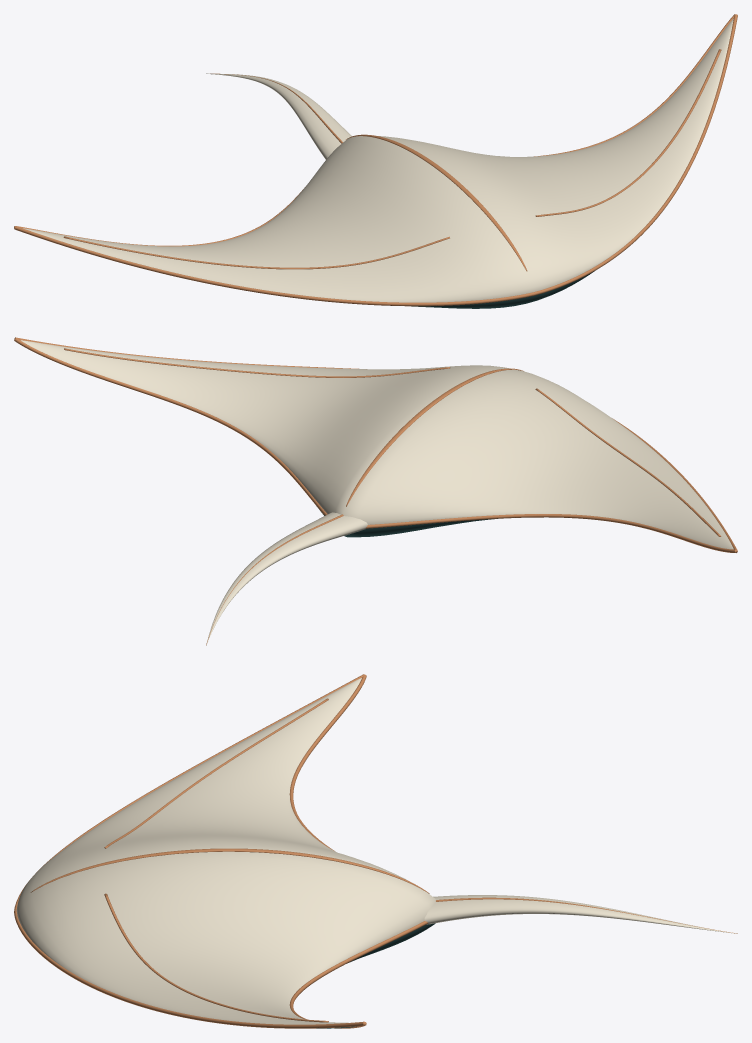
Rendered from nacre-glider.glb.
3 views of the same model, one above another, from view 1: azimuth 30°, elevation 25°; view 2: azimuth 150°, elevation 25°; view 3: azimuth 270°, elevation 25° (orthographic). The views are drawn at different scales.
Parts seen in each view (by area): view 1: A | continuous porcelain wing, B | leading copper seam, E | tapered ceramic tail, B | trailing copper seam, C | swept copper inlay -1, G | copper dorsal midrib, C | swept copper inlay 1; view 2: A | continuous porcelain wing, B | trailing copper seam, E | tapered ceramic tail, B | leading copper seam, C | swept copper inlay 1, G | copper dorsal midrib, C | swept copper inlay -1; view 3: A | continuous porcelain wing, E | tapered ceramic tail, B | leading copper seam, B | trailing copper seam, G | copper dorsal midrib, C | swept copper inlay 1, C | swept copper inlay -1.
Boxes of the visible parts, x1,y1,x2,y2 form: A | continuous porcelain wing: (22, 19, 733, 308); B | leading copper seam: (14, 14, 737, 306); E | tapered ceramic tail: (206, 73, 351, 159); B | trailing copper seam: (14, 14, 734, 246); C | swept copper inlay -1: (63, 236, 449, 269); G | copper dorsal midrib: (346, 134, 527, 271); C | swept copper inlay 1: (535, 49, 721, 216); A | continuous porcelain wing: (20, 340, 733, 549); B | trailing copper seam: (14, 338, 736, 552); E | tapered ceramic tail: (206, 512, 367, 645); B | leading copper seam: (14, 337, 737, 552); C | swept copper inlay 1: (64, 348, 450, 377); G | copper dorsal midrib: (346, 368, 523, 506); C | swept copper inlay -1: (535, 388, 721, 536); A | continuous porcelain wing: (16, 678, 435, 1028); E | tapered ceramic tail: (424, 895, 737, 933); B | leading copper seam: (14, 674, 364, 1028); B | trailing copper seam: (289, 674, 427, 1028); G | copper dorsal midrib: (30, 848, 429, 893); C | swept copper inlay 1: (104, 893, 328, 1022); C | swept copper inlay -1: (104, 698, 328, 848).
Size of the model in its own units: 10.04 by 1.44 by 7.89.
